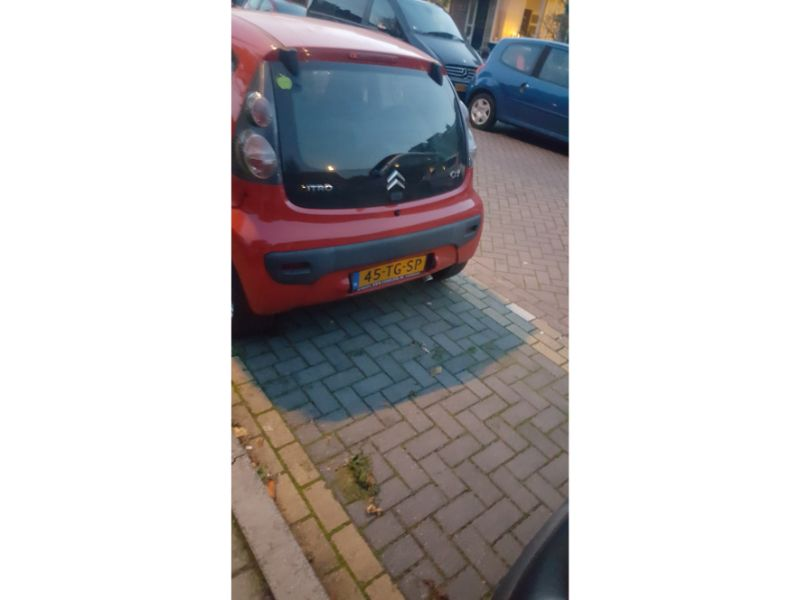kenteken: (348, 256, 432, 293)
